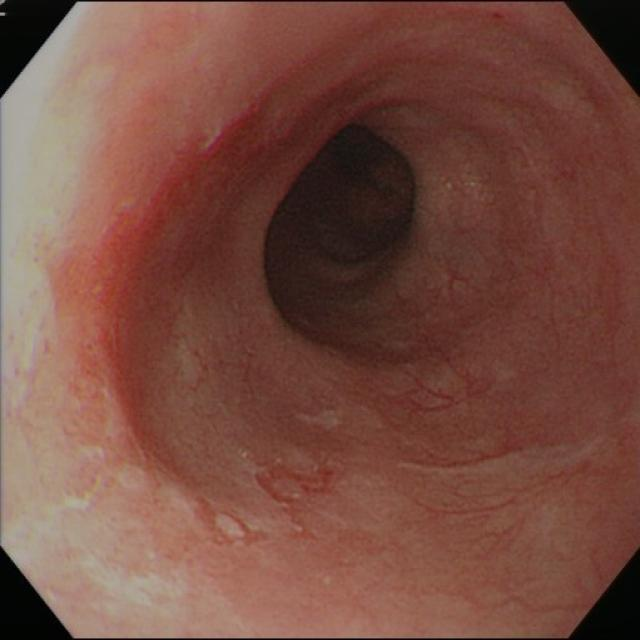A: (45, 209, 178, 500), (258, 453, 339, 541), (188, 497, 250, 549)
E: (264, 115, 419, 320)
U: (75, 558, 185, 618)
